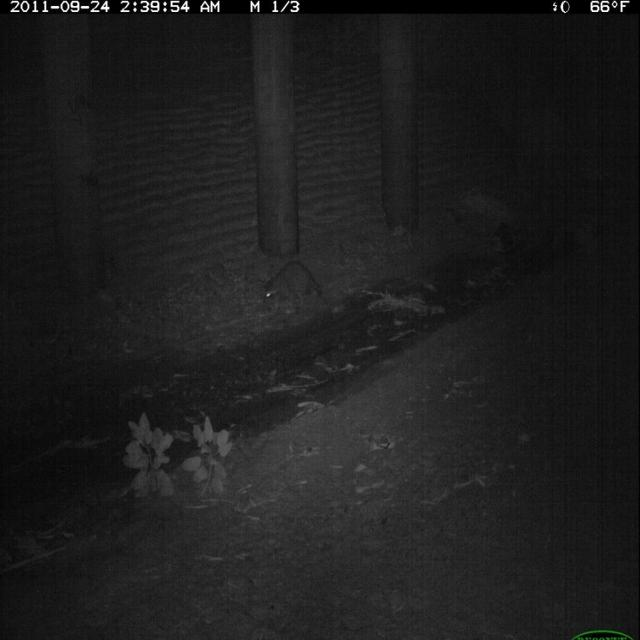raccoon: (261, 256, 326, 320)
